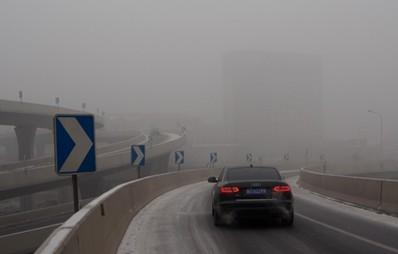car: (206, 165, 296, 227)
